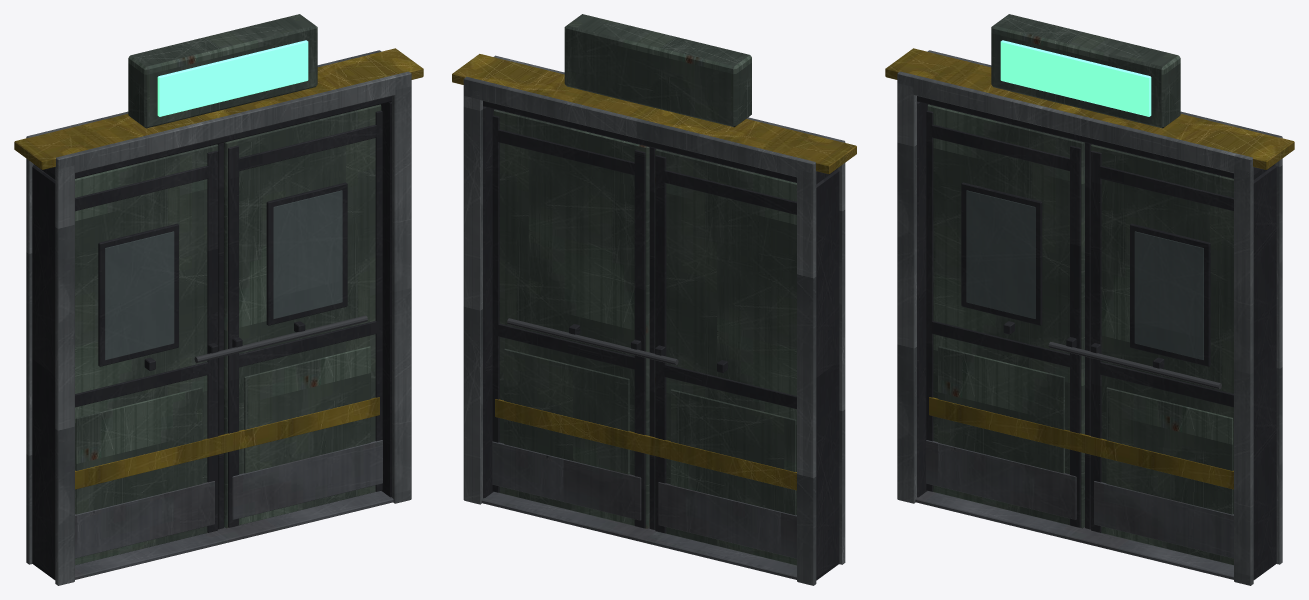
Rendered from exit_door.glb.
3 renders of one model, left to right at view 1: azimuth 30°, elevation 25°; view 2: azimuth 150°, elevation 25°; view 3: azimuth 330°, elevation 25°, orthographic.
Visible parts, largest first — view 1: body, frame; view 2: body, frame; view 3: body, frame.
Part boxes in pixels (x1,y1,x2,y2): body: [14, 14, 423, 565]; frame: [26, 50, 411, 585]; body: [452, 14, 856, 565]; frame: [463, 55, 845, 585]; body: [885, 14, 1294, 565]; frame: [897, 50, 1282, 585].
Bounding box in the file's own units: 2.2 × 2.72 × 0.32.
Materials: 7 (5 with a texture image).
